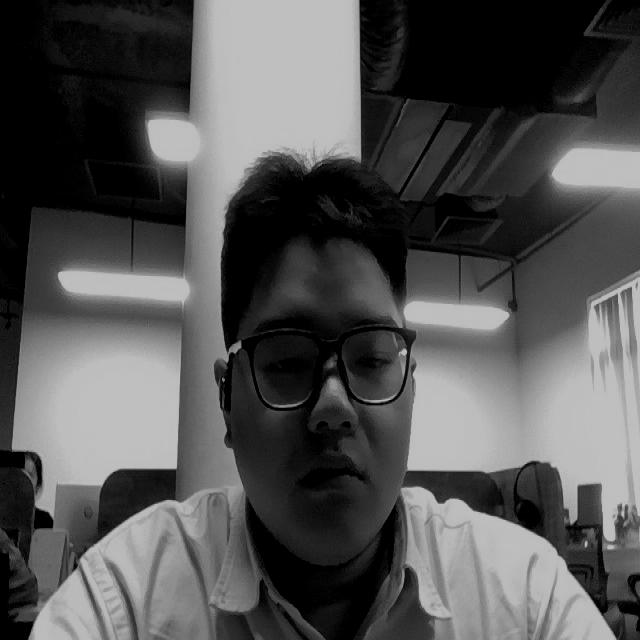real: (207, 147, 423, 570), (247, 312, 411, 384)
